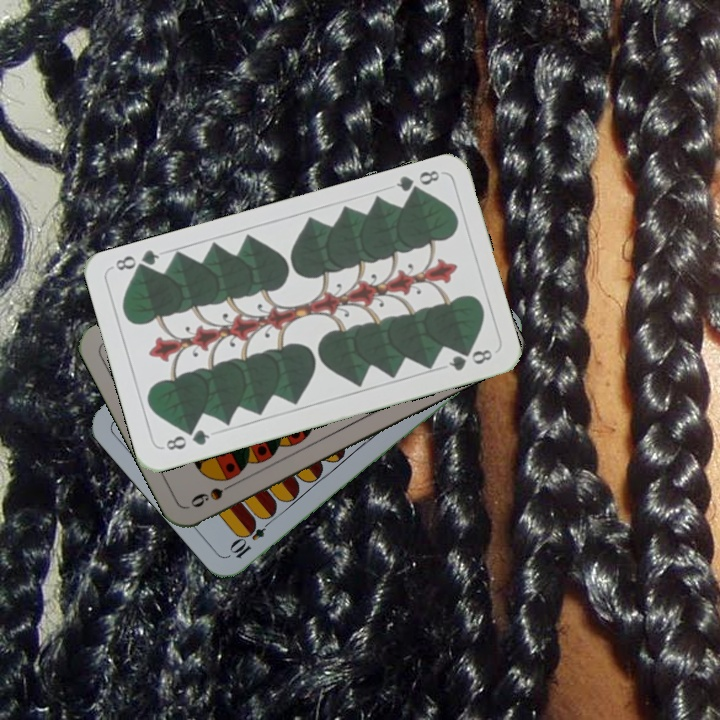E10: (226, 513, 276, 561)
G8: (392, 166, 442, 199), (159, 425, 212, 453)
S9: (186, 476, 242, 511)
